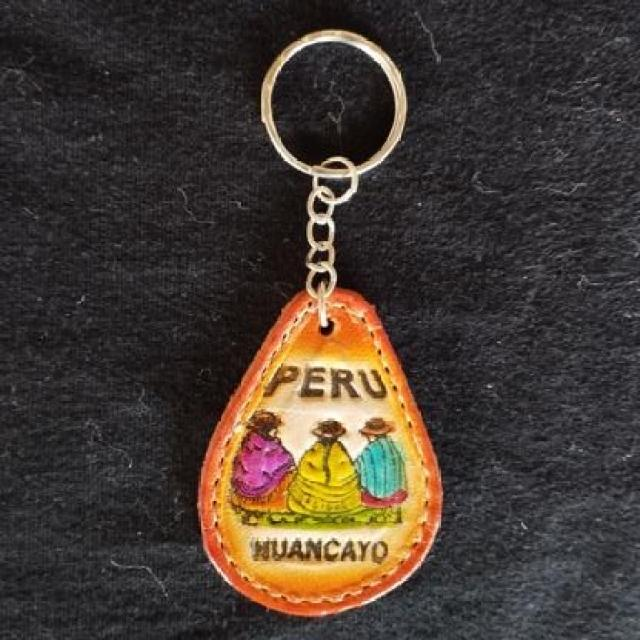Llavero: (196, 285, 444, 618)
